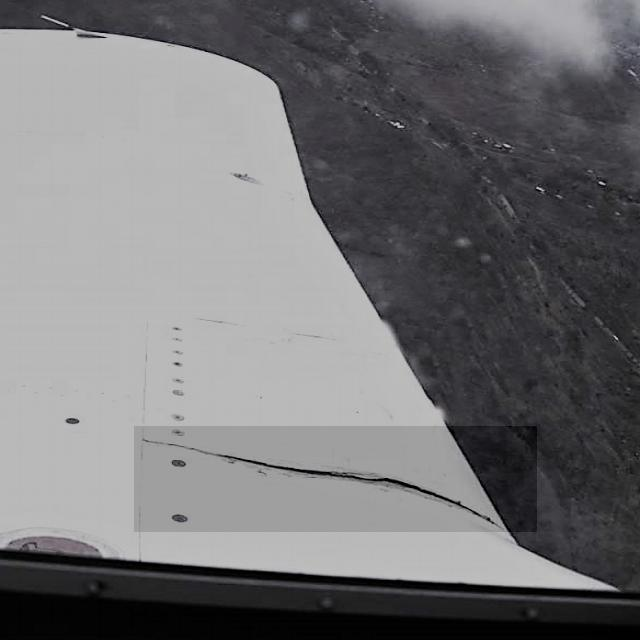crack: (135, 427, 538, 534)
